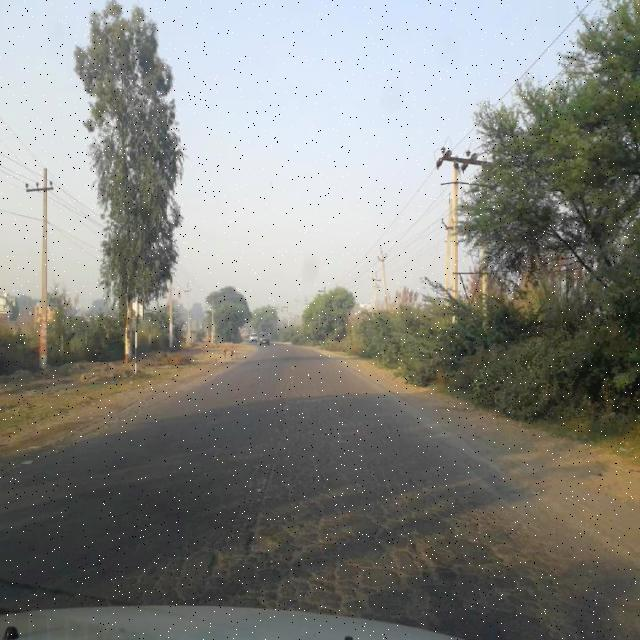D20: (1, 418, 601, 604)
D40: (234, 494, 308, 566)
